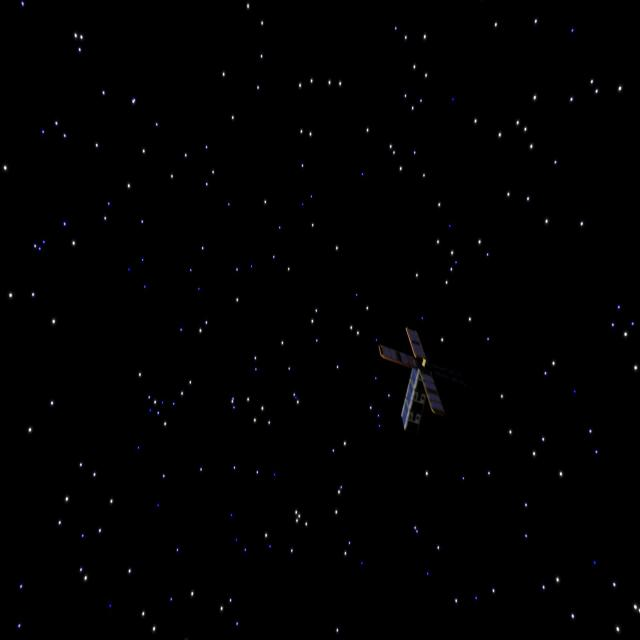medium_debris: (378, 316, 451, 439)
